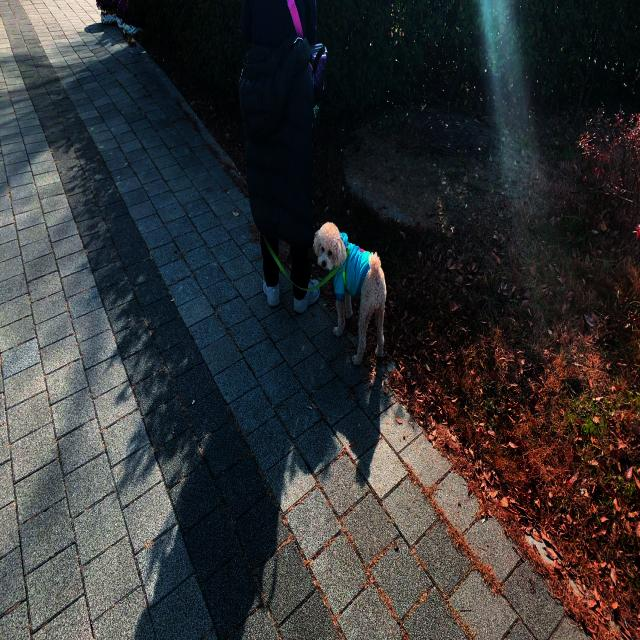Leashed_Dog: (291, 200, 386, 367)
